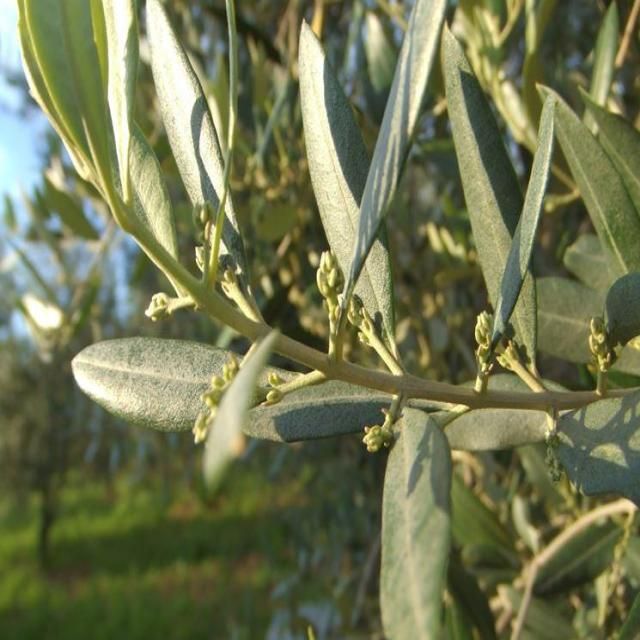Healthy: (342, 0, 447, 307), (438, 18, 522, 314), (17, 0, 124, 221), (299, 19, 369, 274), (380, 401, 451, 639), (71, 337, 230, 430), (244, 381, 391, 442)
